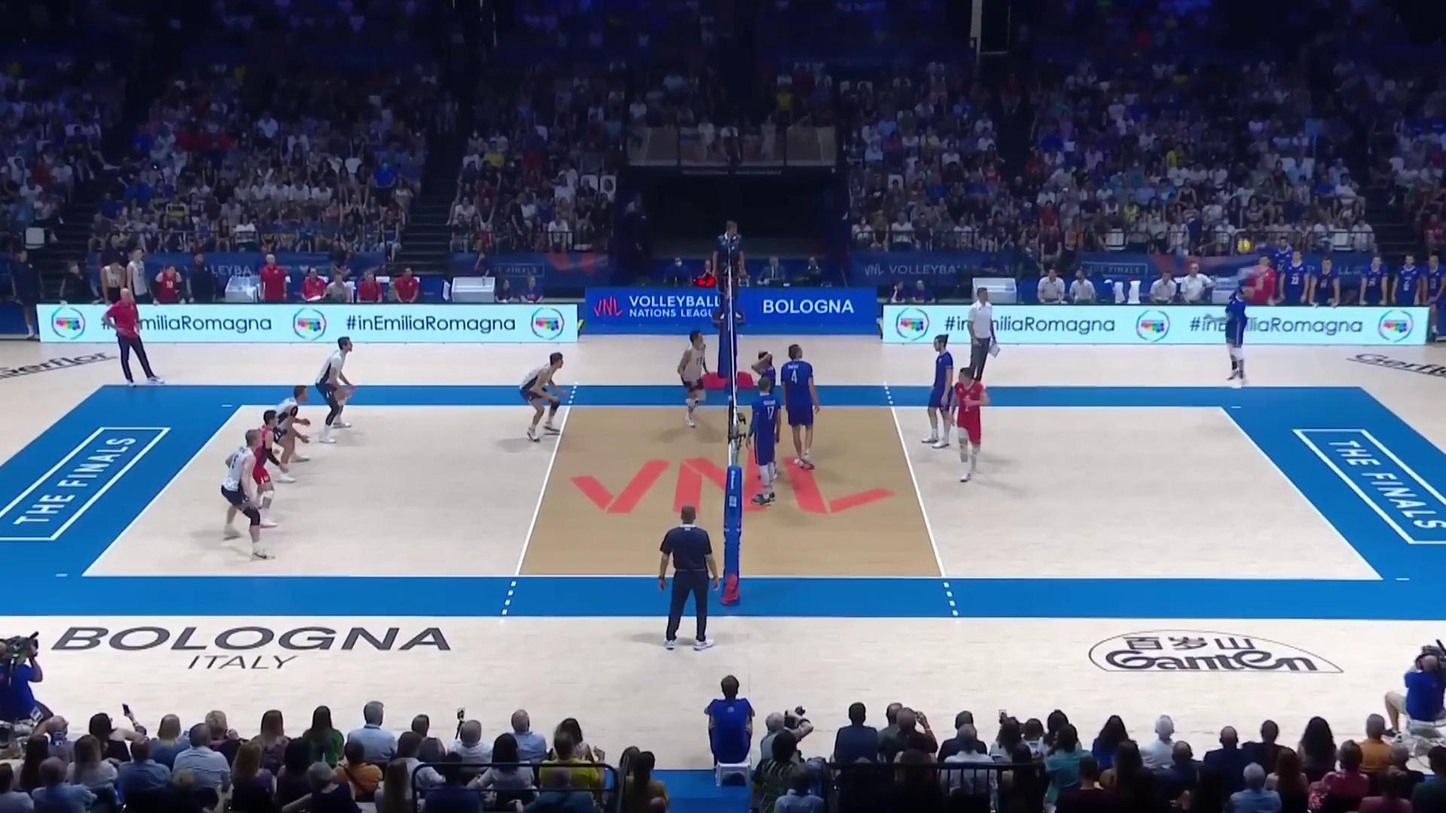player: (214, 429, 264, 556), (776, 345, 821, 468), (518, 351, 570, 444), (244, 412, 286, 527), (751, 380, 785, 512), (315, 340, 356, 444), (950, 369, 985, 486), (926, 337, 960, 453), (1221, 284, 1255, 389), (272, 386, 315, 466), (675, 332, 711, 427), (751, 350, 777, 406)
refree: (655, 507, 714, 651), (716, 224, 750, 323)
